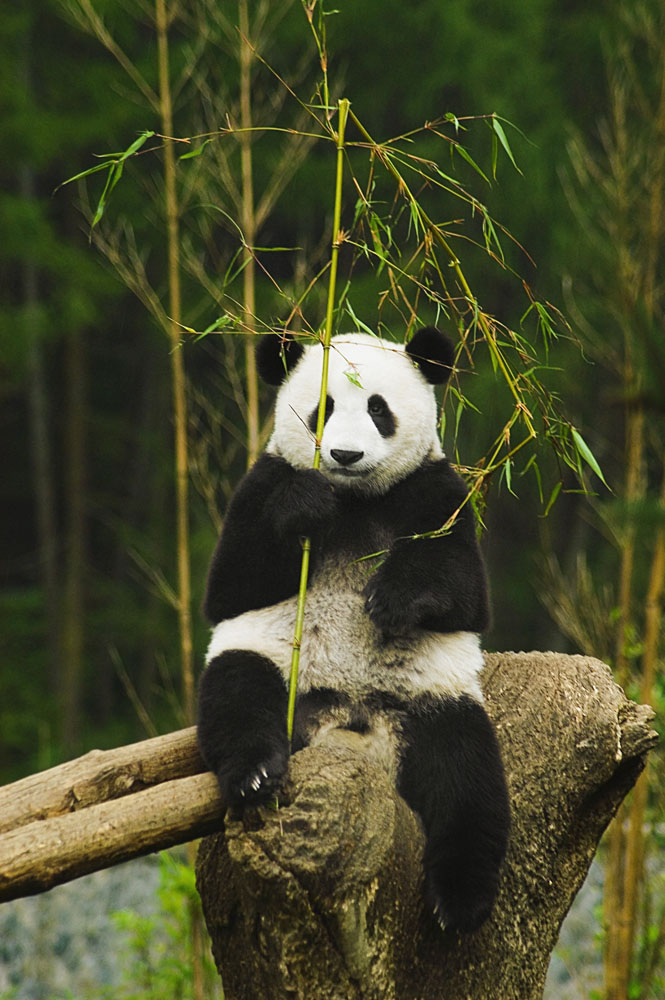panda: (191, 314, 536, 909)
